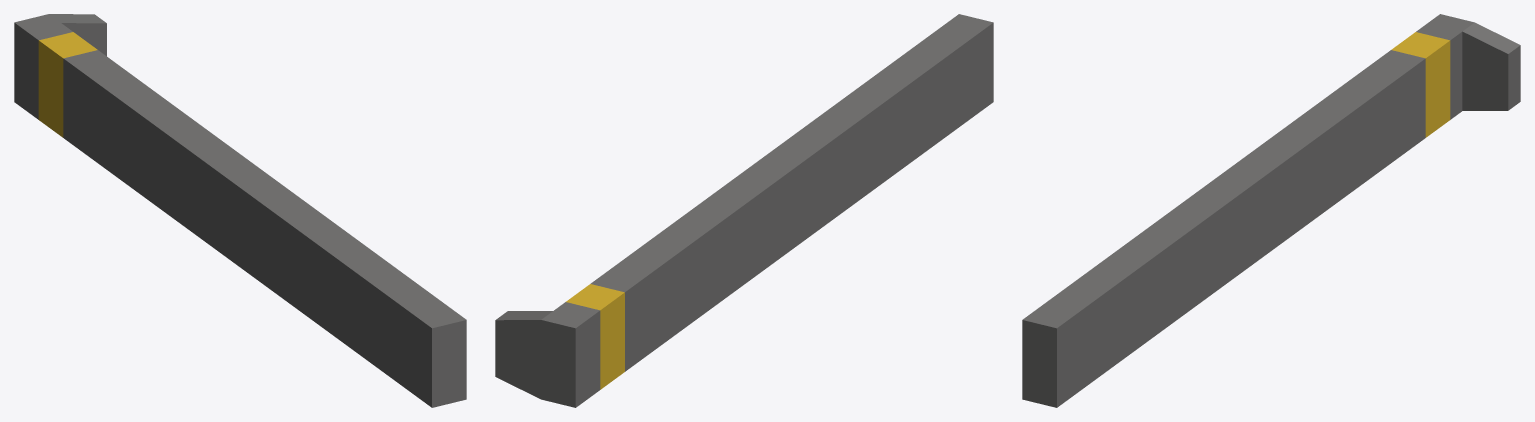
The model's file is arm.dae.
The picture shows the model from 3 angles, left to right: view 1: azimuth 30°, elevation 25°; view 2: azimuth 150°, elevation 25°; view 3: azimuth 330°, elevation 25°; orthographic projection.
Visible parts, largest first — view 1: arm; view 2: arm; view 3: arm.
Boxes of the visible parts, x1,y1,x2,y2 form: arm: (14,14,466,407); arm: (495,14,993,407); arm: (1022,14,1520,407).
Size of the model in its own units: 1.16 by 10.45 by 1.1.
